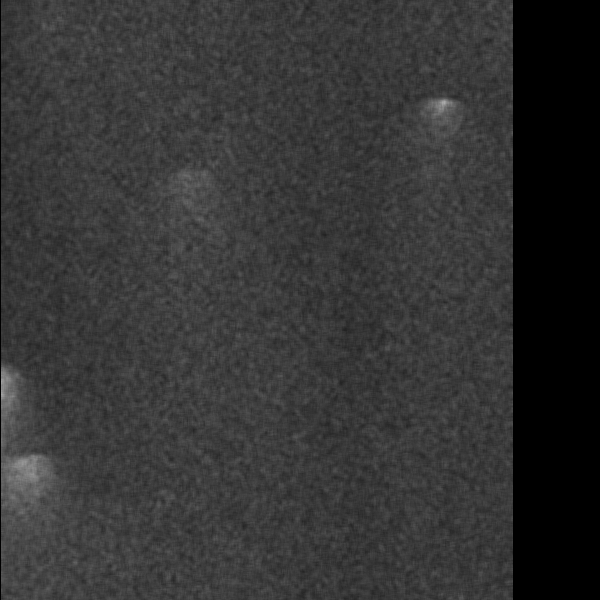spark: (362, 509, 413, 558), (361, 321, 385, 384), (91, 480, 112, 516)
